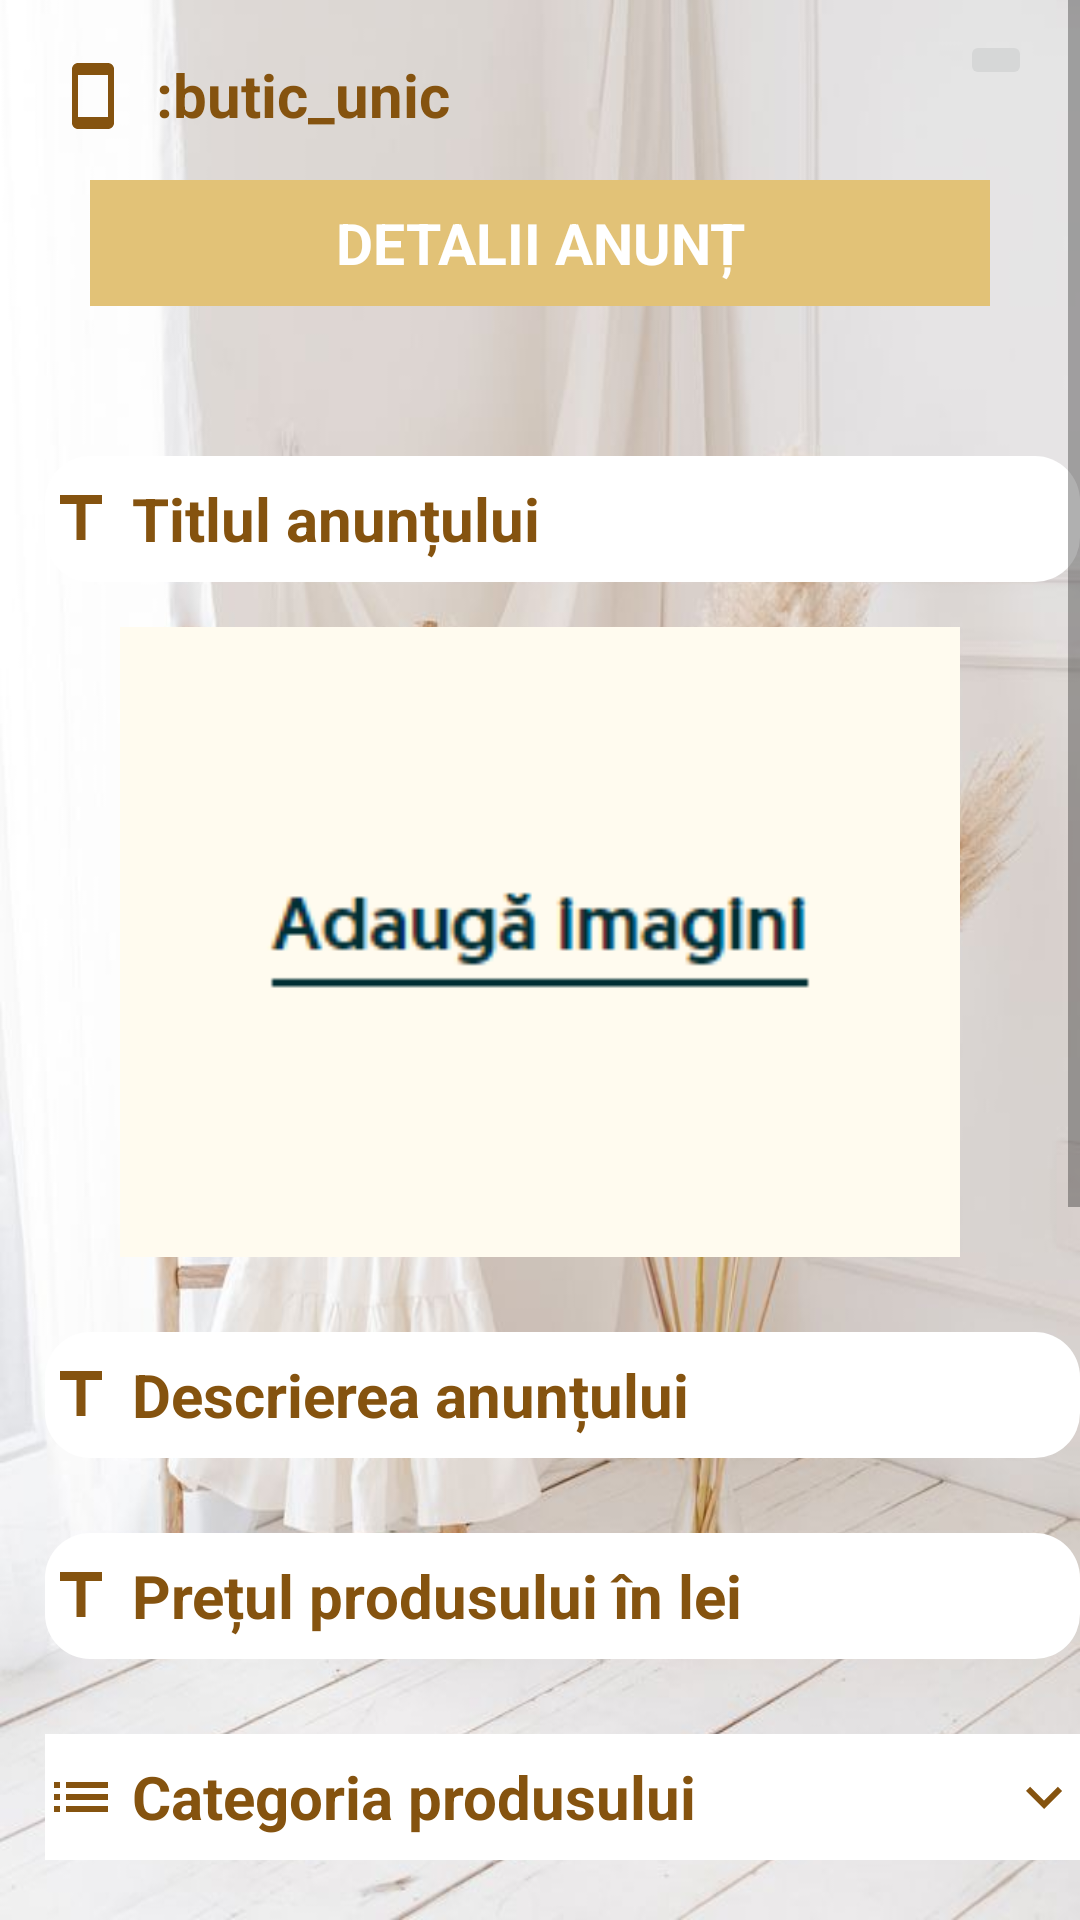

Where to tap for icons on this 1080×1920 app screen, as [x,y]:
smartphone: [93,96]
